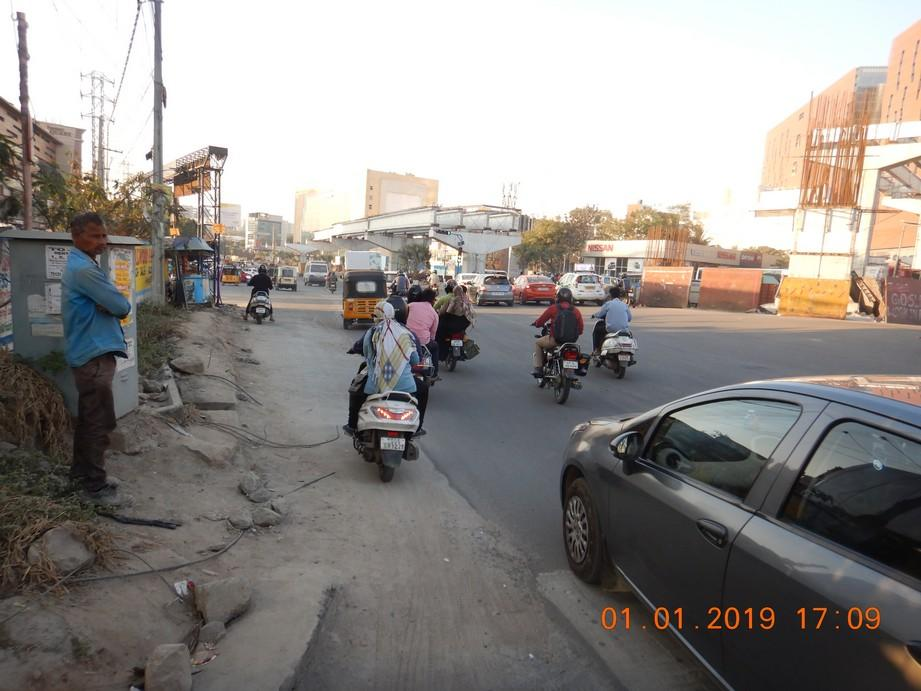plate: (379, 437, 408, 452), (562, 360, 579, 369)
